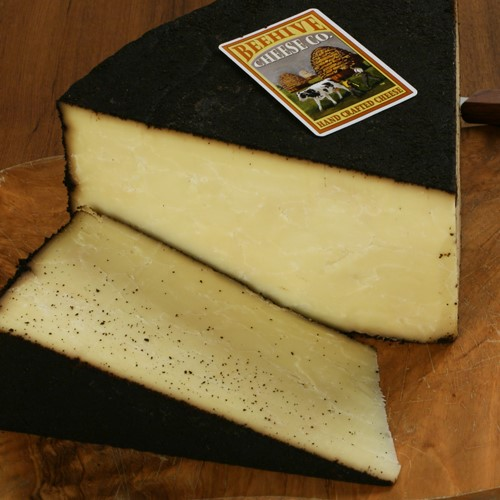cheese: (62, 2, 480, 354), (1, 229, 475, 463)
